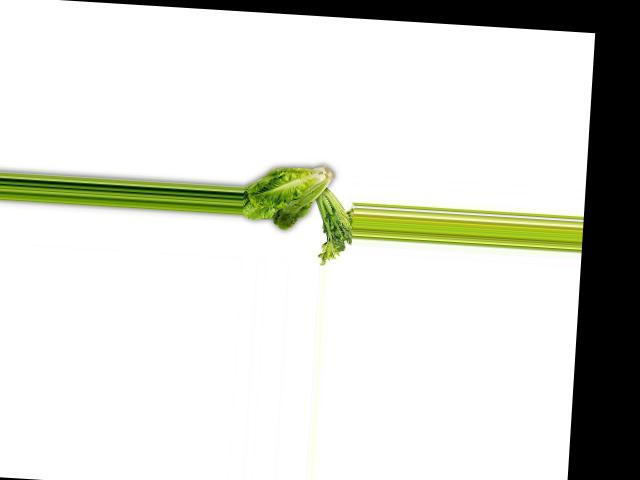lettuce: (240, 164, 339, 240)
